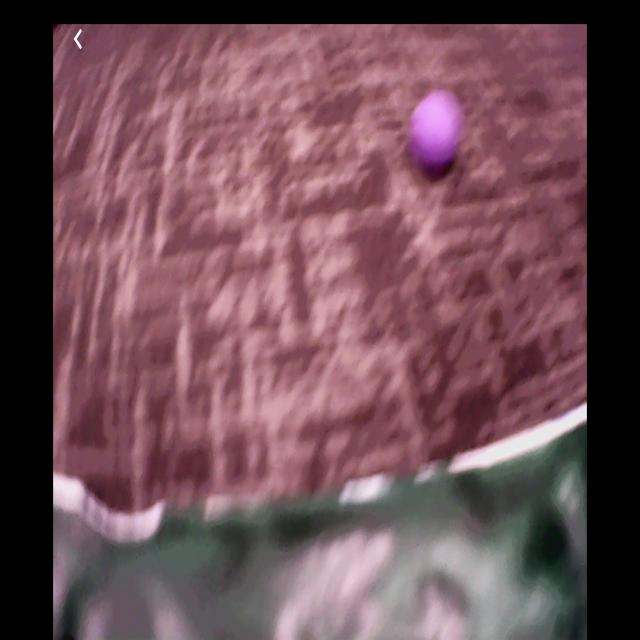ball: (412, 94, 457, 171)
